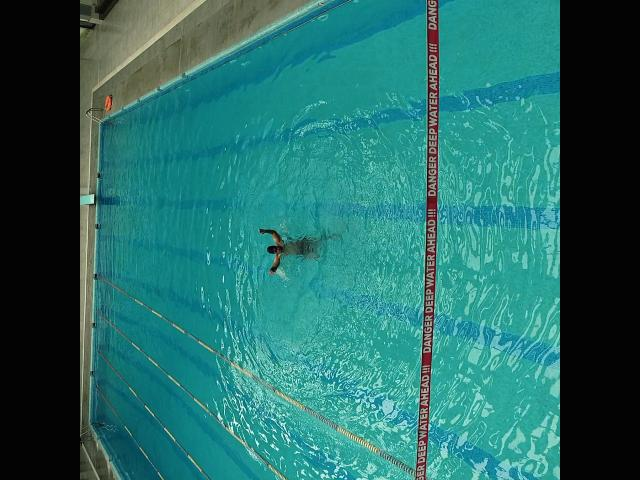swimming: (255, 226, 338, 272)
